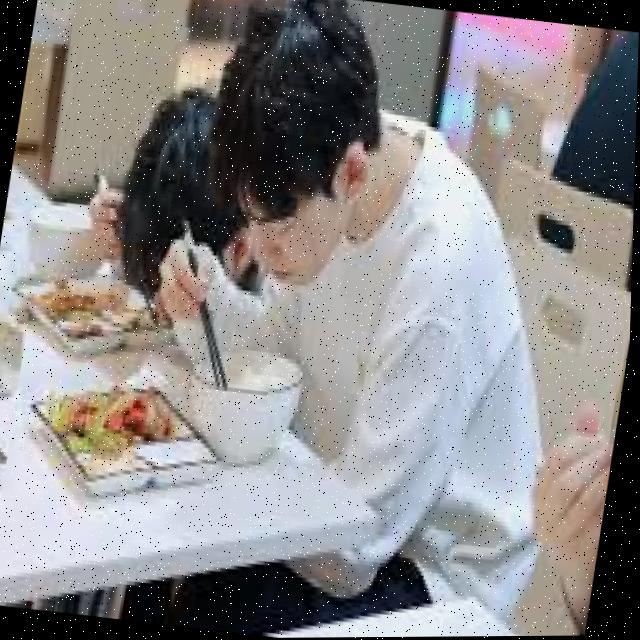eating-person: (111, 0, 622, 639)
